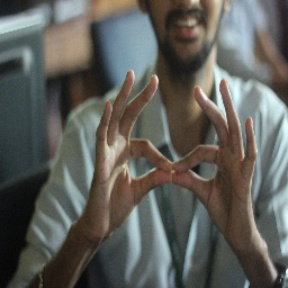B: (108, 112, 241, 210)
